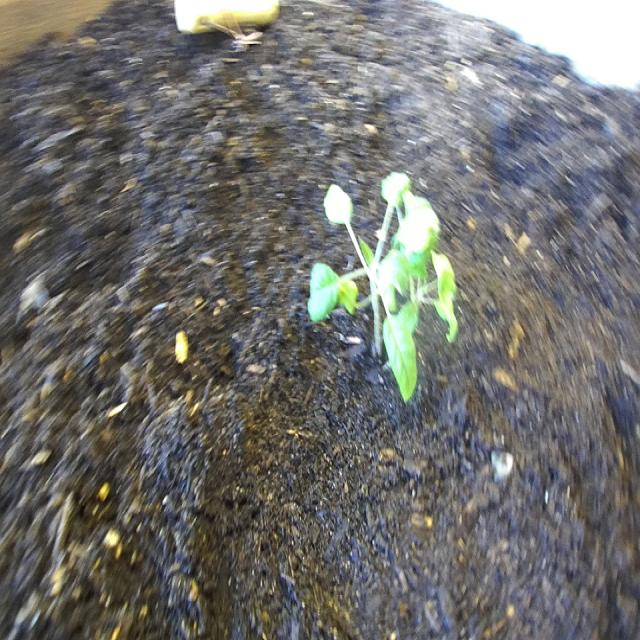Healthy: (301, 153, 463, 413)
